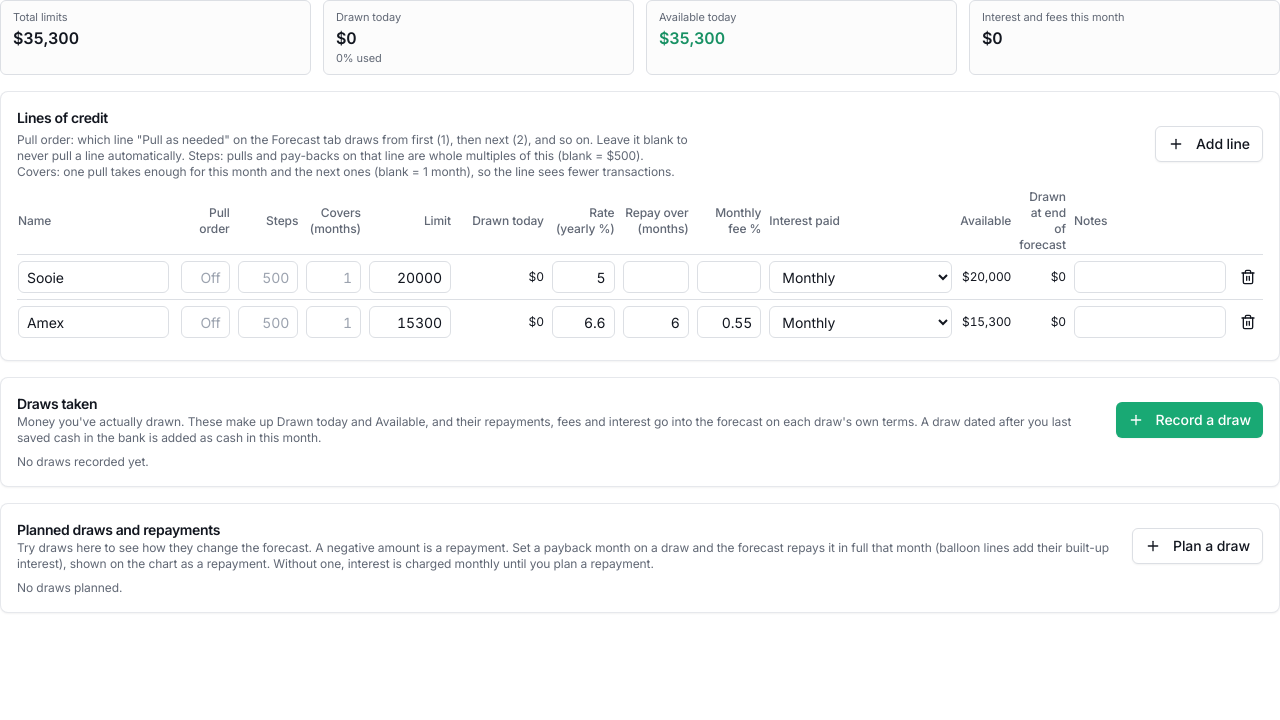
Scenario: CreditTab real draws › records a draw with terms seeded from the line
Later steps or results of the test are not shown.
Click the button "Record a draw" at (1189, 420), box [1116,402,1263,438]
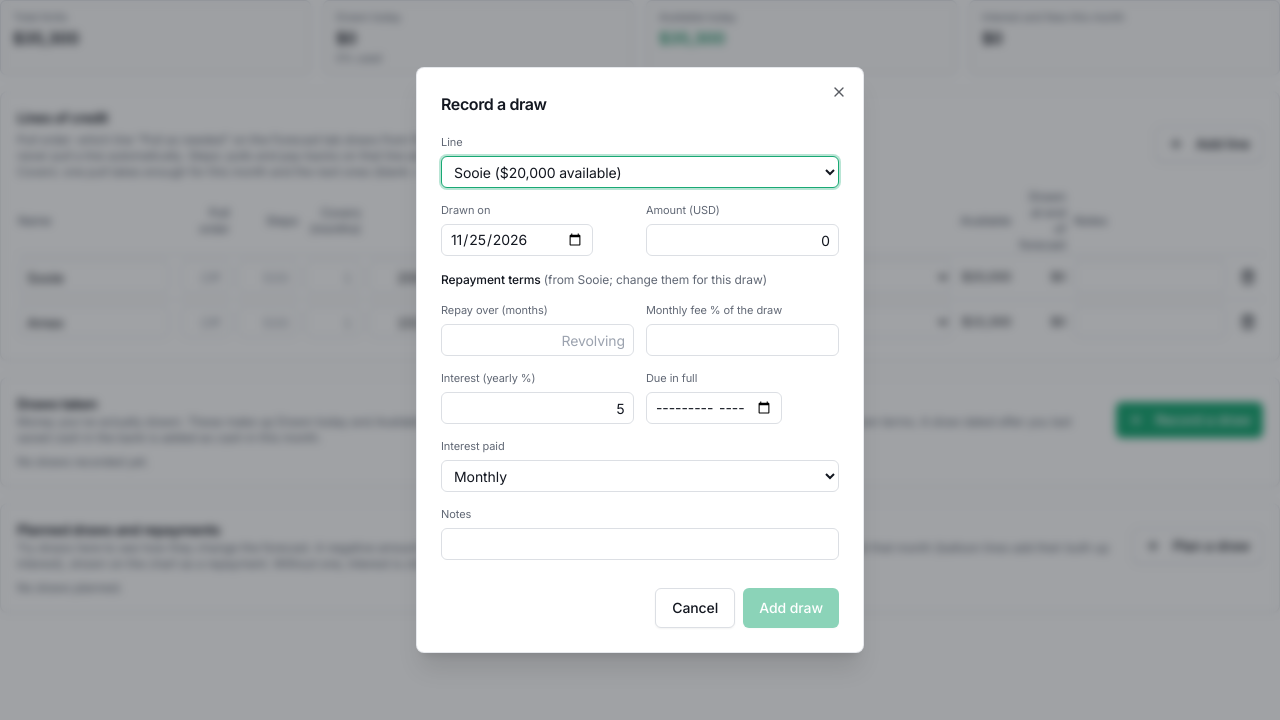
Select "Amex ($15,300 available)" in the dropdown labelled "Line" at (640, 172), box [441,156,839,188]
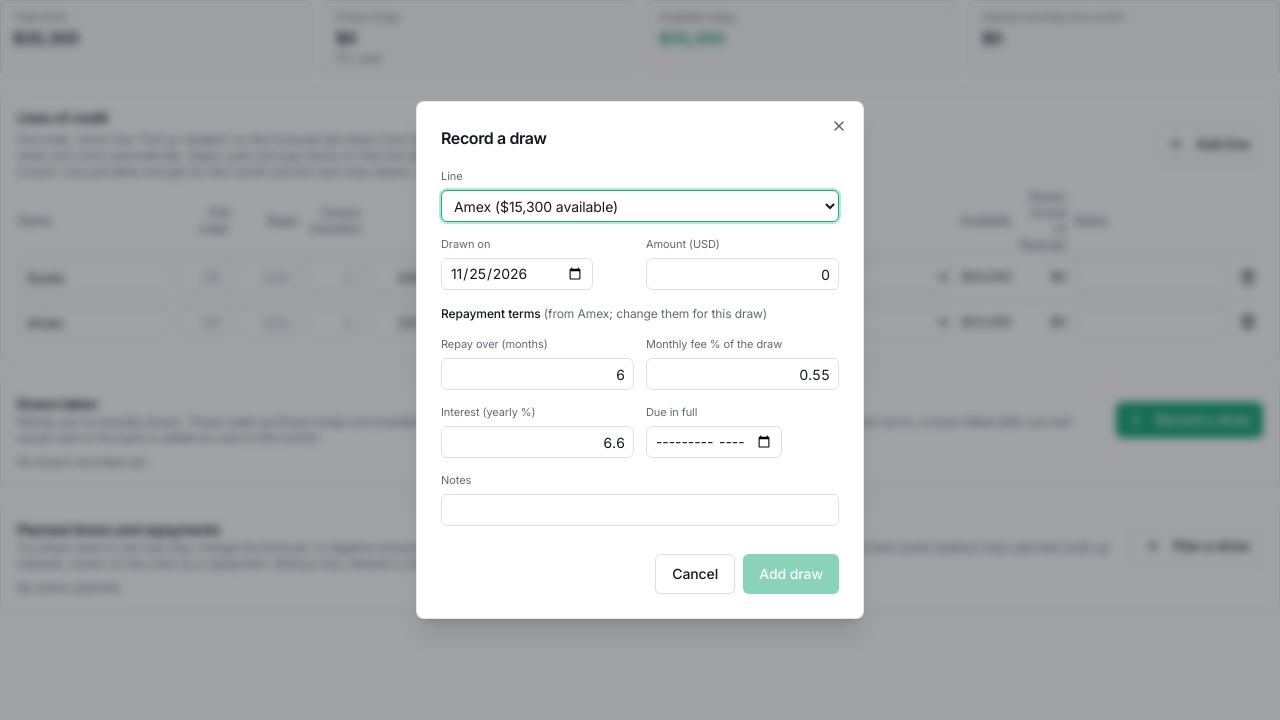
Replace the text in the field labelled "Amount" with "10000" at (742, 274), box [646,258,839,290]
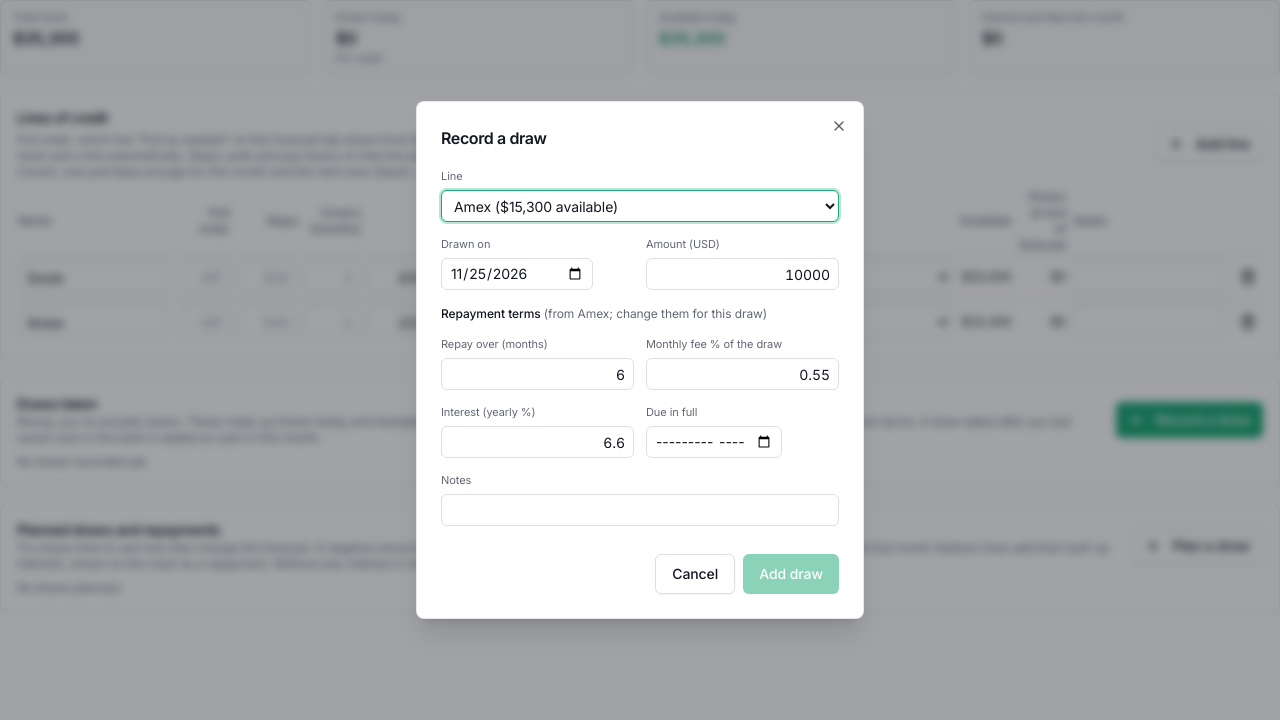
Leave the field labelled "Amount", box [646,258,839,290]
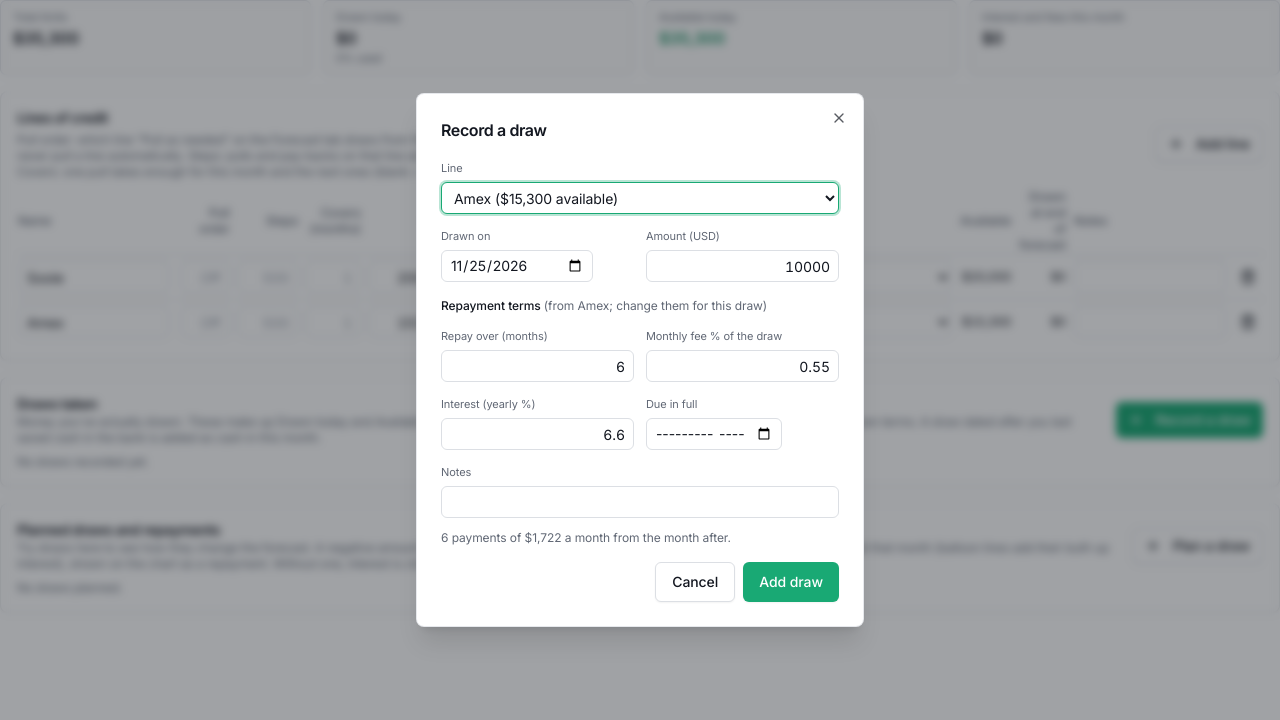
Expected: the dialog shows "6 payments of $1,722 a month", [441,530,731,545]
